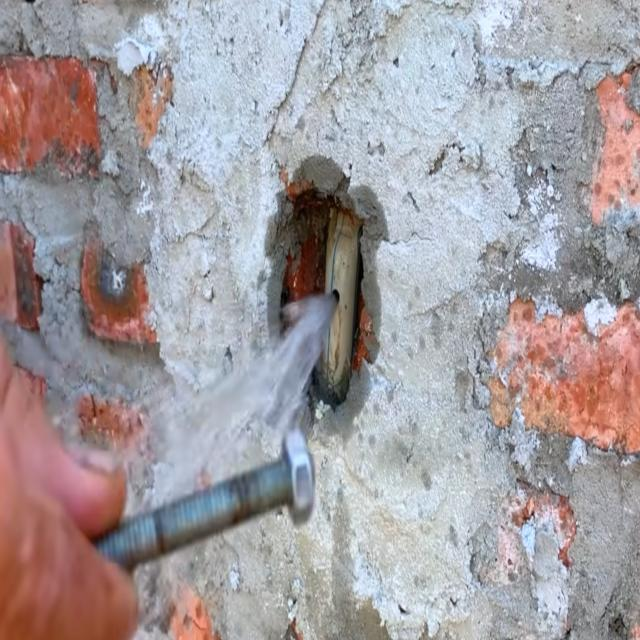leak: (150, 293, 336, 504)
